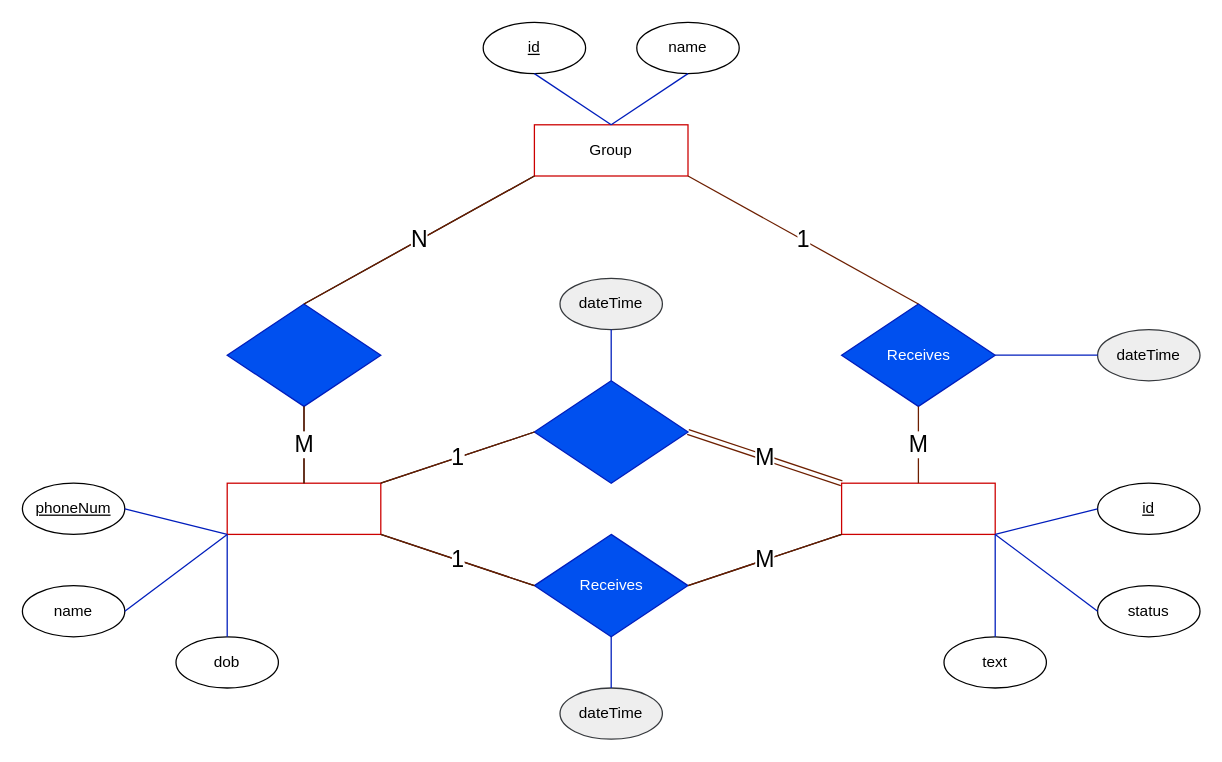
This 1222x762 diagram has some shape labels left out. Here are the shapes that lost their labels. From the top down, the centre of each, then its label:
At point 303,354: "Participates".
At point 610,431: "Sends".
At point 303,508: "User".
At point 917,508: "Message".
